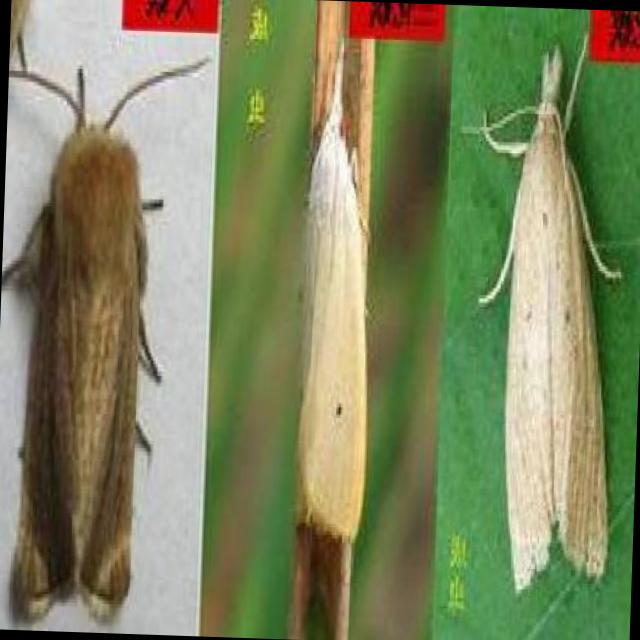stem-borer: (0, 40, 195, 635), (458, 37, 628, 604), (286, 41, 382, 536)
